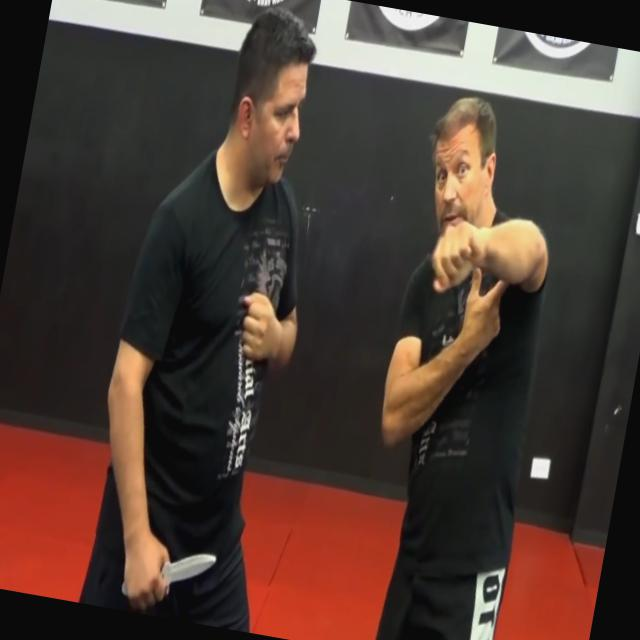knife: (114, 526, 222, 616)
